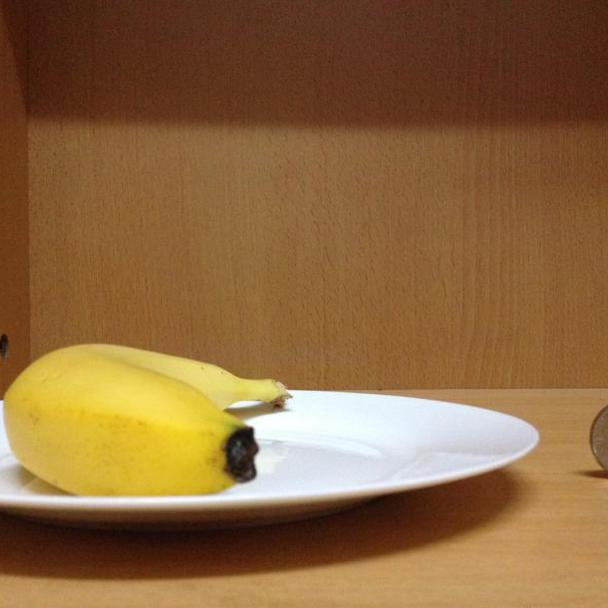banana: (3, 337, 309, 497)
